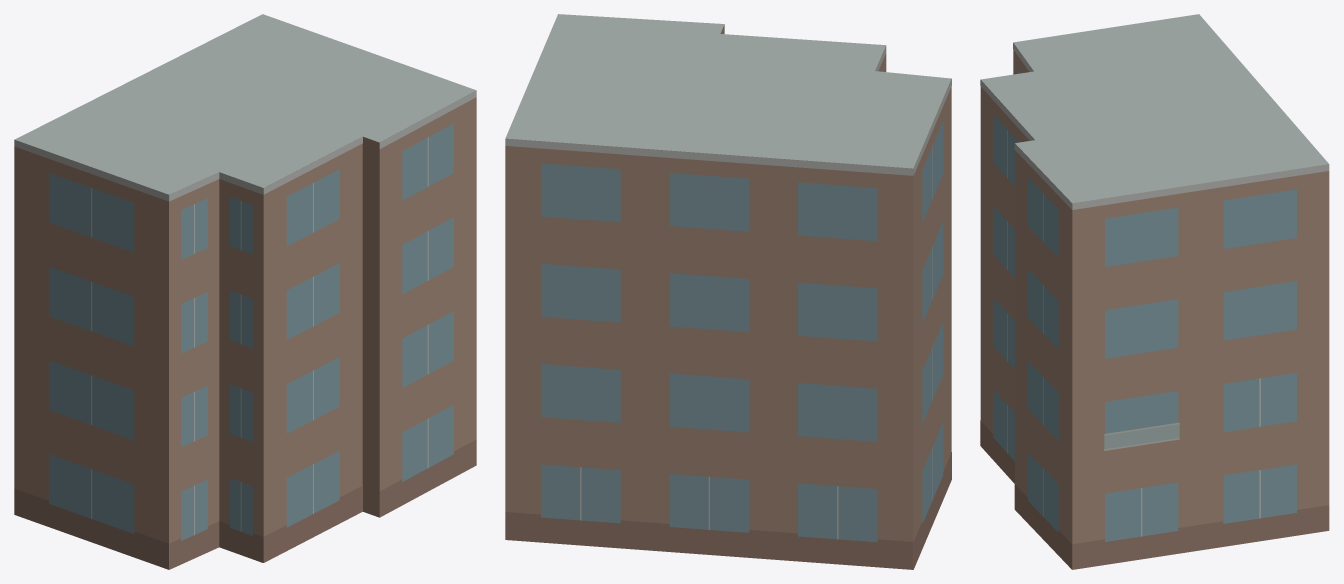
File: survey-upis-32966804.glb
3 views of the same model, side by side, from view 1: azimuth 30°, elevation 25°; view 2: azimuth 150°, elevation 25°; view 3: azimuth 270°, elevation 25° (orthographic). The views are drawn at different scales.
Visible parts, largest first — view 1: survey-upis-32966804.tmp; view 2: survey-upis-32966804.tmp; view 3: survey-upis-32966804.tmp.
Boxes of the visible parts, bbox=[...] form: survey-upis-32966804.tmp: bbox=[14, 14, 476, 569]; survey-upis-32966804.tmp: bbox=[505, 14, 951, 569]; survey-upis-32966804.tmp: bbox=[980, 14, 1329, 569].
Size of the model in its own units: 14.8 by 13.35 by 11.52.
